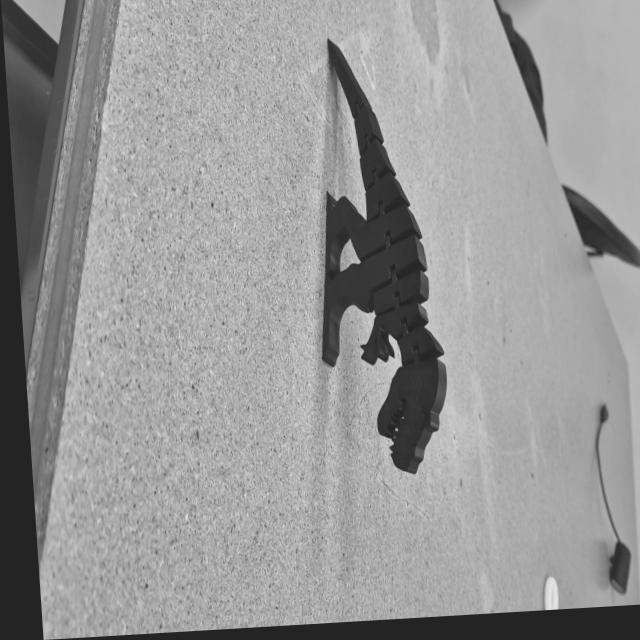dino: (299, 30, 453, 481)
